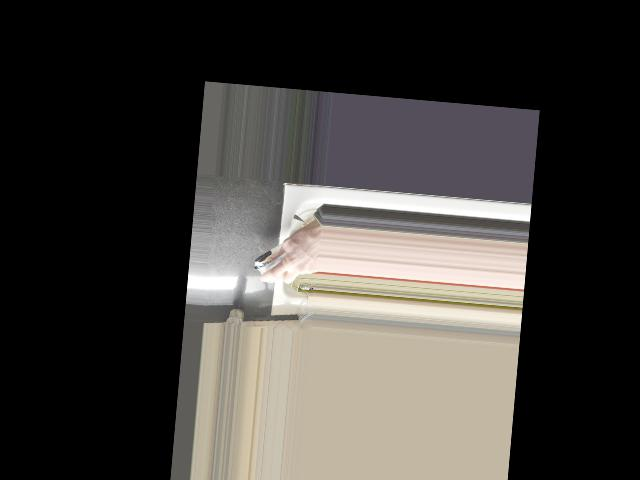cheese: (250, 232, 317, 283)
